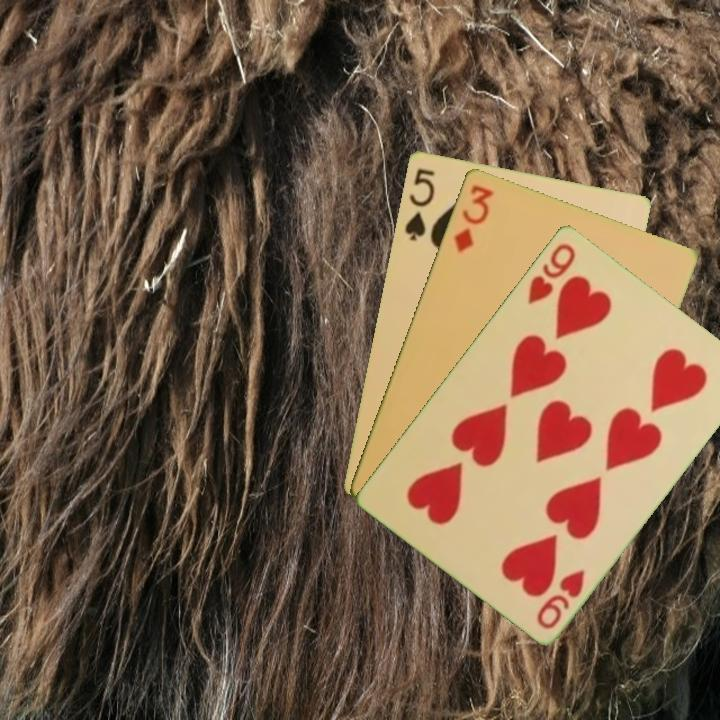3d: (450, 180, 496, 256)
5s: (400, 164, 438, 244)
9h: (523, 239, 579, 307), (533, 565, 588, 632)
